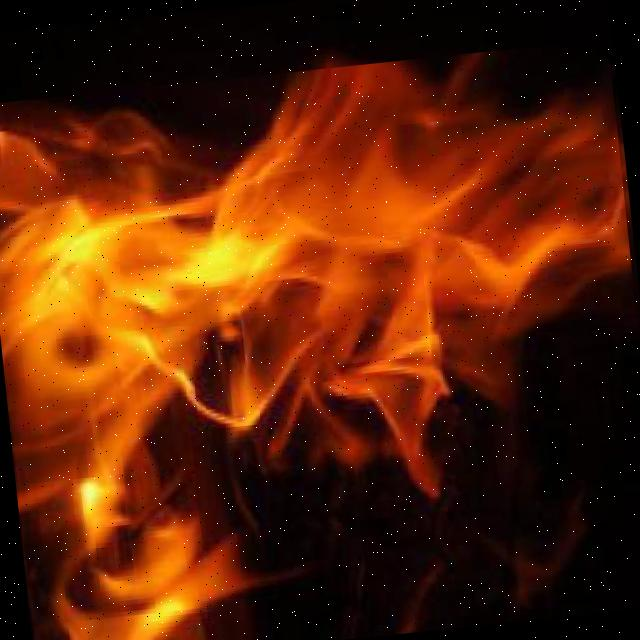fire: (0, 38, 640, 640)
